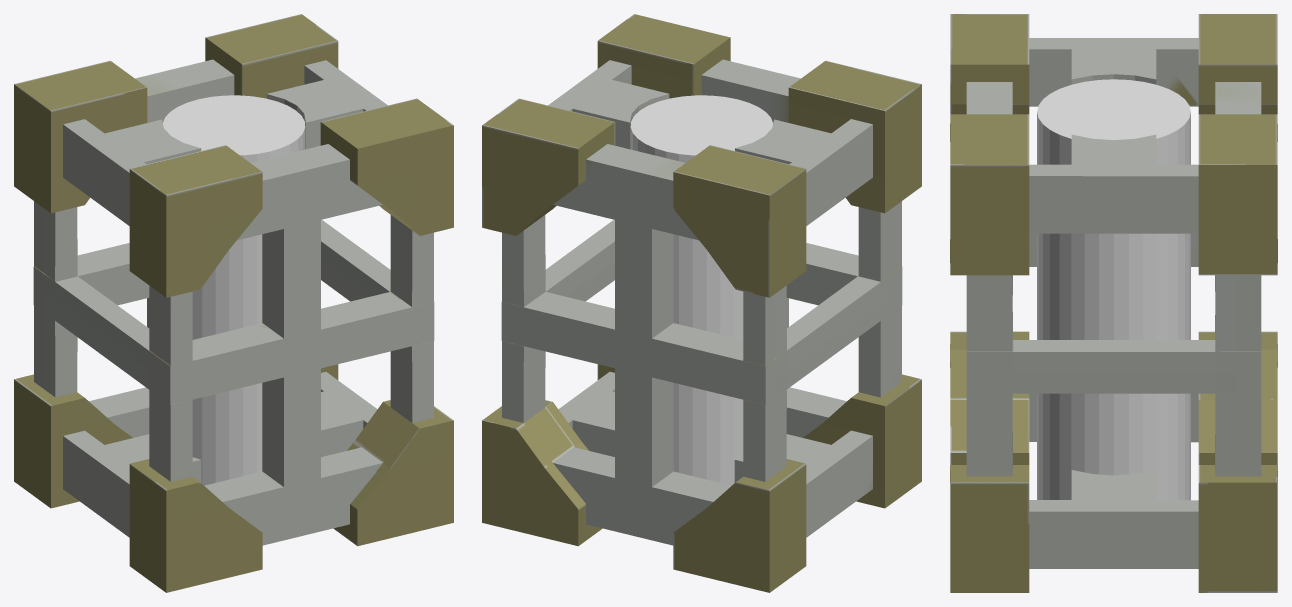
Rendered from project2_fusion_crate.fbx.
3 renders of one model, left to right at view 1: azimuth 30°, elevation 25°; view 2: azimuth 150°, elevation 25°; view 3: azimuth 270°, elevation 25°, orthographic. The views are drawn at different scales.
Parts seen in each view (by area): view 1: Cube, Cylinder; view 2: Cube, Cylinder; view 3: Cube, Cylinder.
Boxes of the visible parts, x1=… form: Cube: x1=14, y1=14, x2=453, y2=592; Cylinder: x1=163, y1=95, x2=305, y2=485; Cube: x1=482, y1=14, x2=921, y2=592; Cylinder: x1=630, y1=95, x2=772, y2=485; Cube: x1=950, y1=14, x2=1277, y2=592; Cylinder: x1=1037, y1=79, x2=1190, y2=500.
Bounding box in the file's own units: 108 × 143 × 98.93.
Materials: 2 (1 with a texture image).
